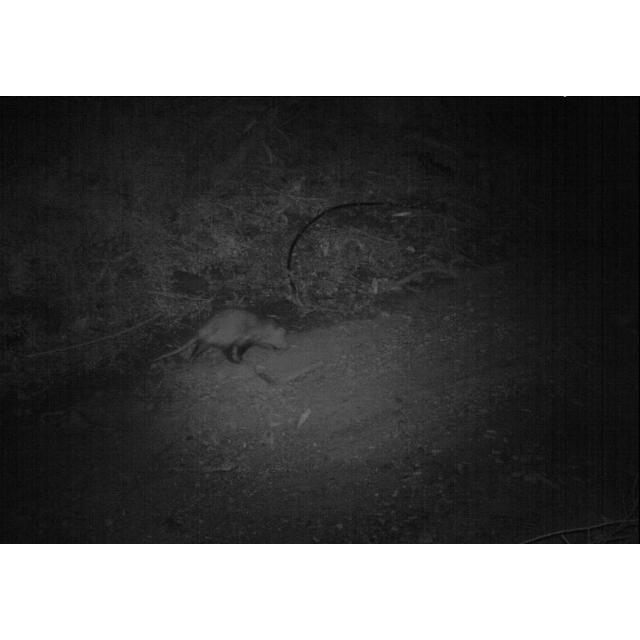animals: (159, 306, 289, 362)
